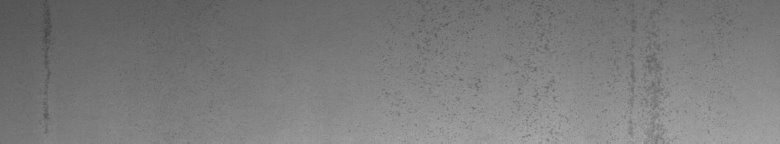ib: (412, 22, 555, 127)
